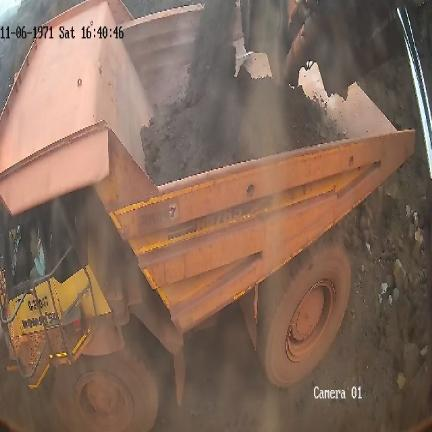pile: (138, 0, 345, 189), (335, 158, 430, 432)
